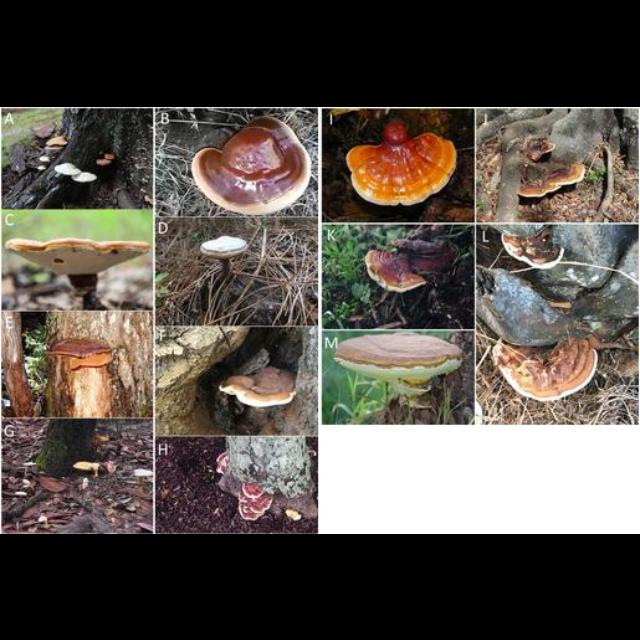ganoderma: (191, 117, 311, 218), (347, 111, 462, 209), (335, 333, 465, 390), (493, 340, 601, 403), (6, 238, 153, 277), (511, 139, 588, 198), (391, 225, 463, 274), (219, 366, 299, 409), (366, 246, 429, 293), (502, 233, 567, 271), (47, 337, 115, 371), (238, 482, 274, 523), (201, 233, 249, 259), (56, 162, 99, 183), (45, 134, 72, 151), (215, 452, 231, 476), (95, 154, 118, 167), (74, 462, 101, 473), (41, 154, 58, 163)
primordium: (286, 509, 303, 521), (134, 469, 153, 478), (38, 516, 51, 525), (22, 461, 38, 468), (15, 490, 29, 497), (21, 479, 33, 486), (38, 164, 49, 171)
